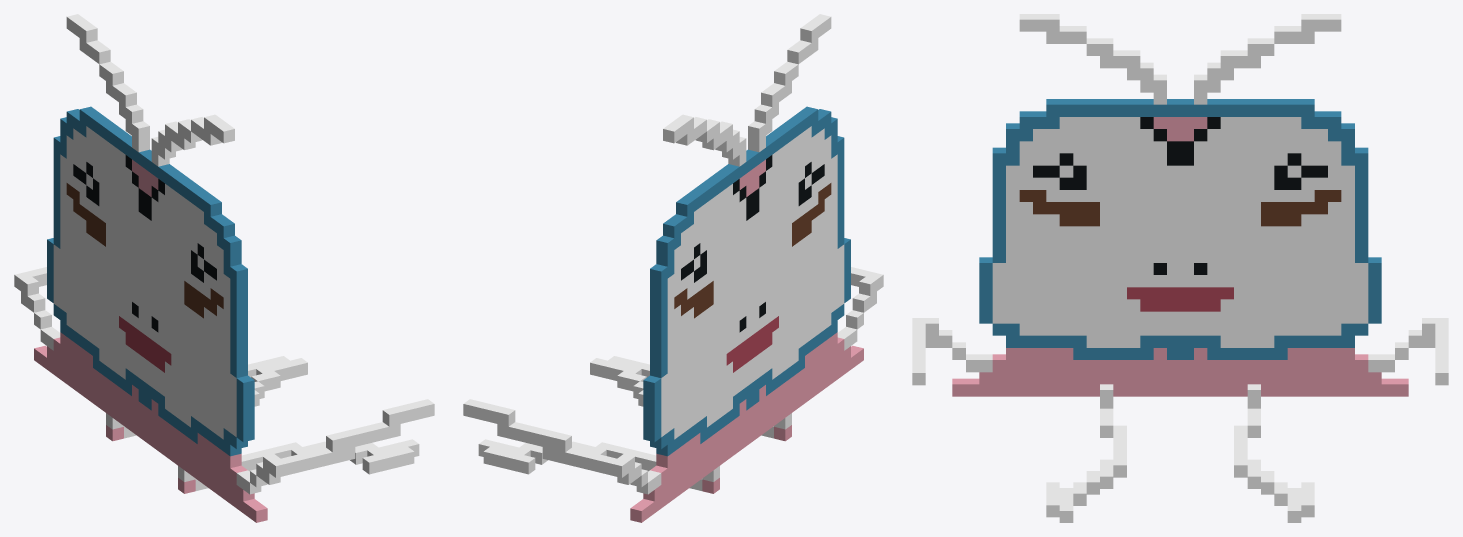
Rendered from ballerina.obj.
3 renders of one model, left to right at view 1: azimuth 30°, elevation 25°; view 2: azimuth 150°, elevation 25°; view 3: azimuth 270°, elevation 25°, orthographic. The views are drawn at different scales.
Size of the model in its own units: 19 by 33 by 40.
Materials: 1 (1 with a texture image).
